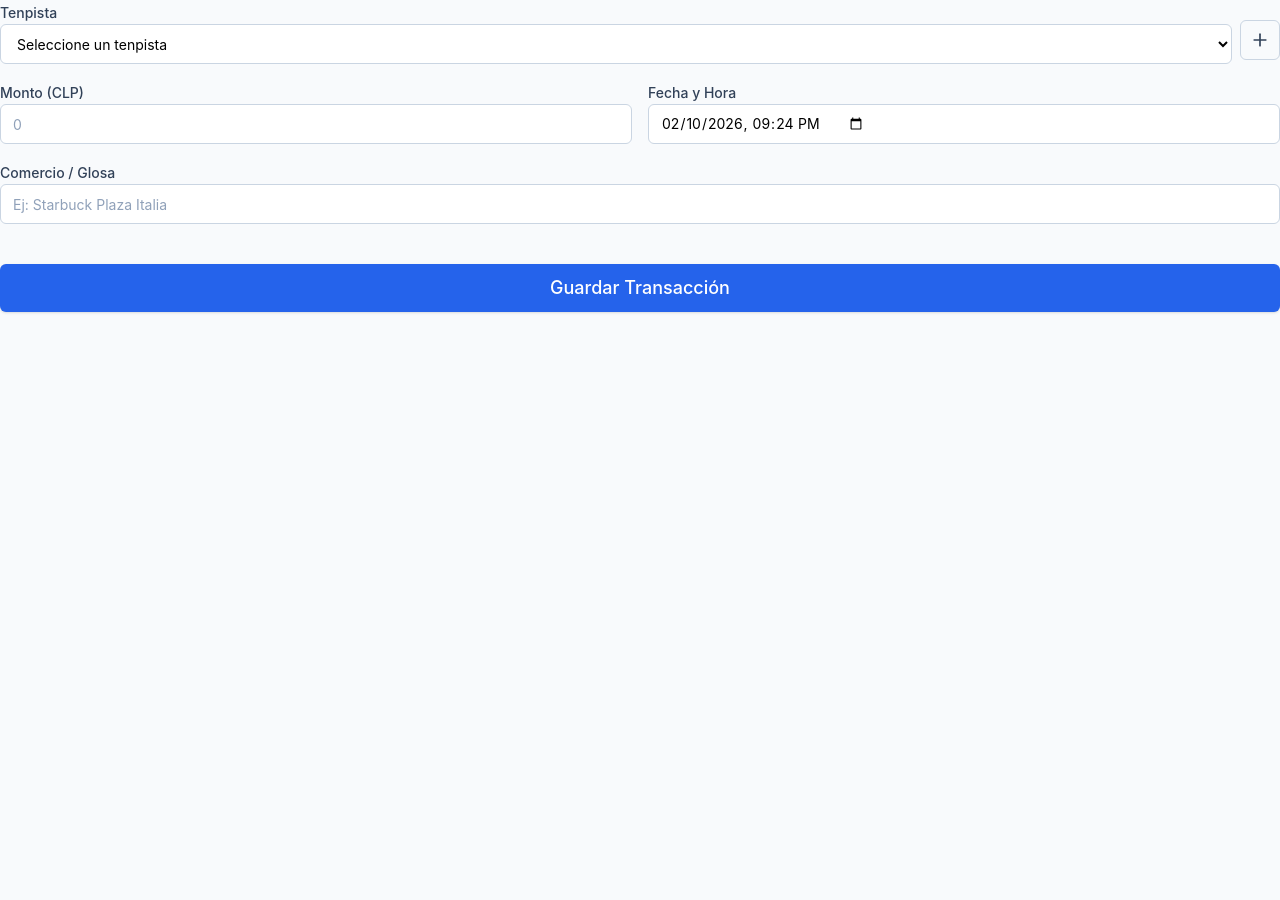
Test: TransactionForm Component › opens tenpista modal when plus button is clicked
Click the 1st button. click: (1260, 40)
box: [1240,20,1279,60]
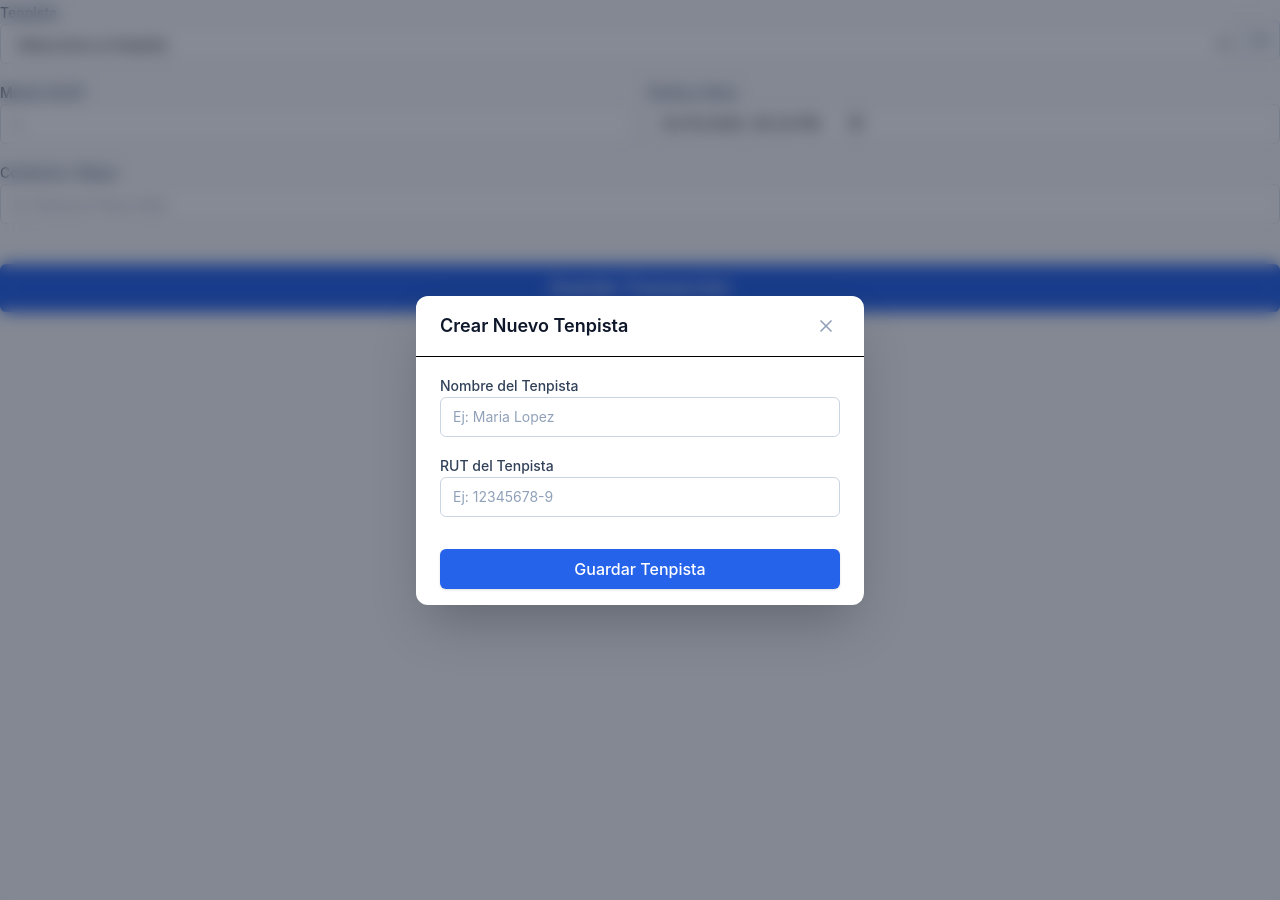
Expected: the heading "Crear Nuevo Tenpista" is shown, [440,312,628,340]
